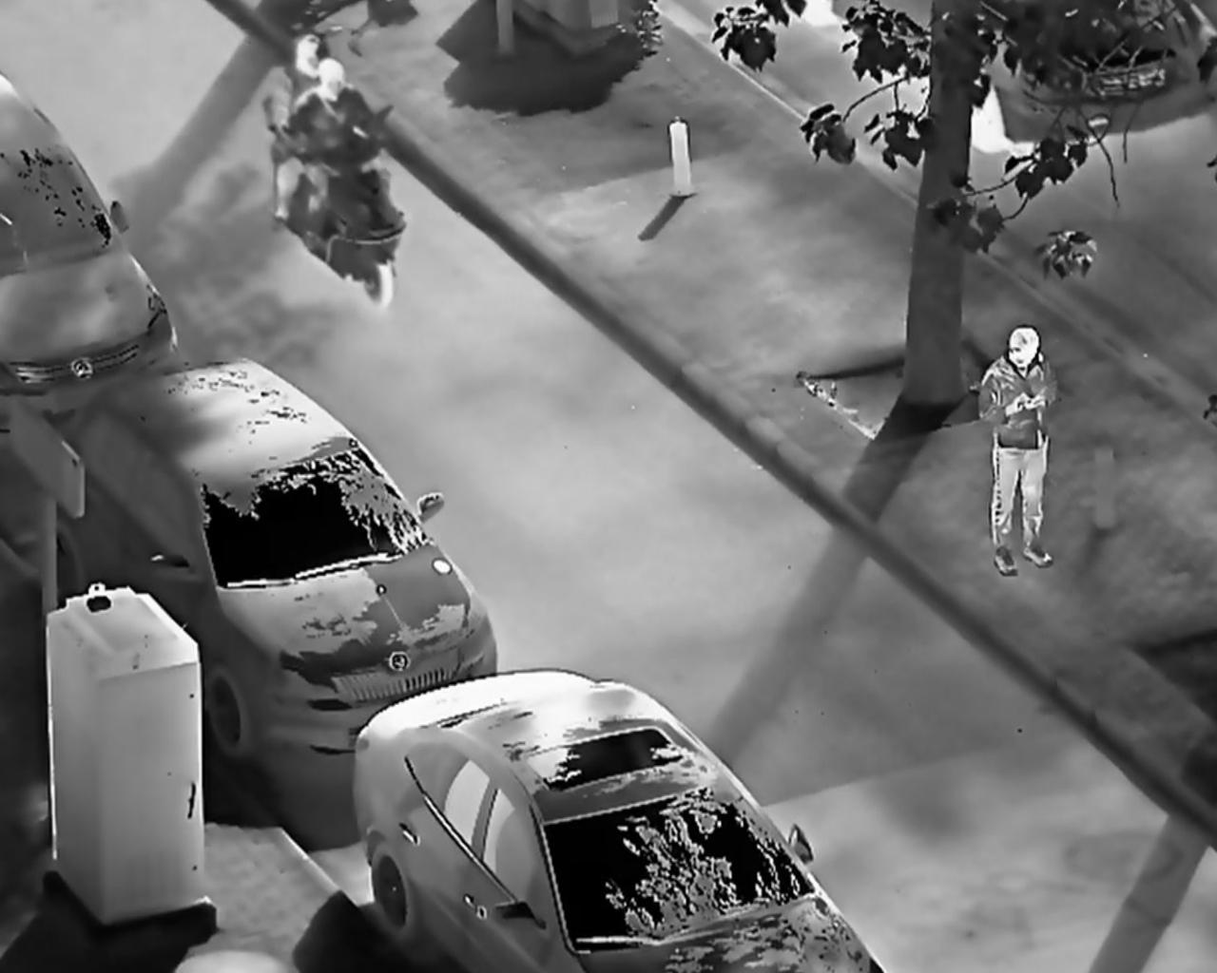person: (974, 322, 1065, 580), (282, 54, 394, 230)
